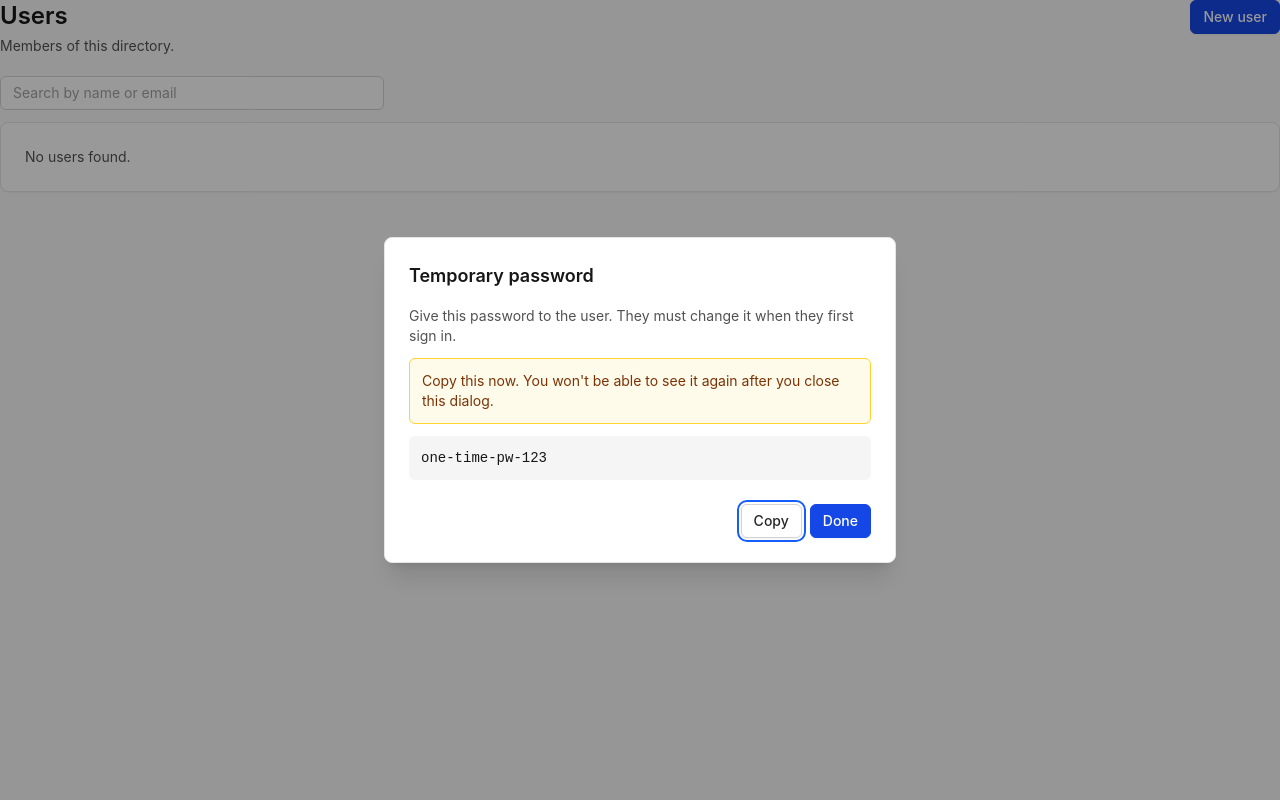
Scenario: UsersList › shows a created user’s one-time password once and drops it on Done
The width and height of the screenshot is (1280, 800).
Expected: the list with test id "secret-values" reads "one-time-pw-123", [421, 450, 547, 466]
Click the button "Done": coordinates (840, 521) [810, 504, 871, 538]
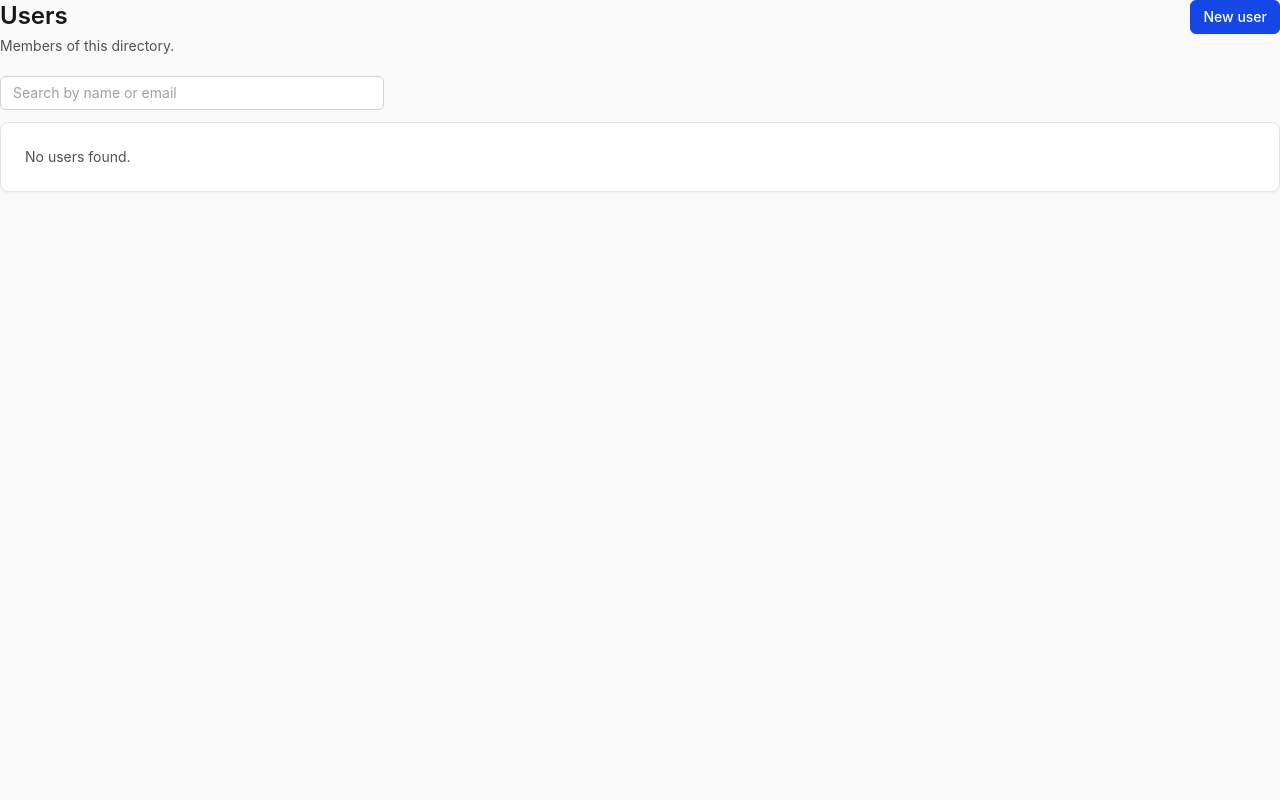
Now the text "one-time-pw-123" is gone
